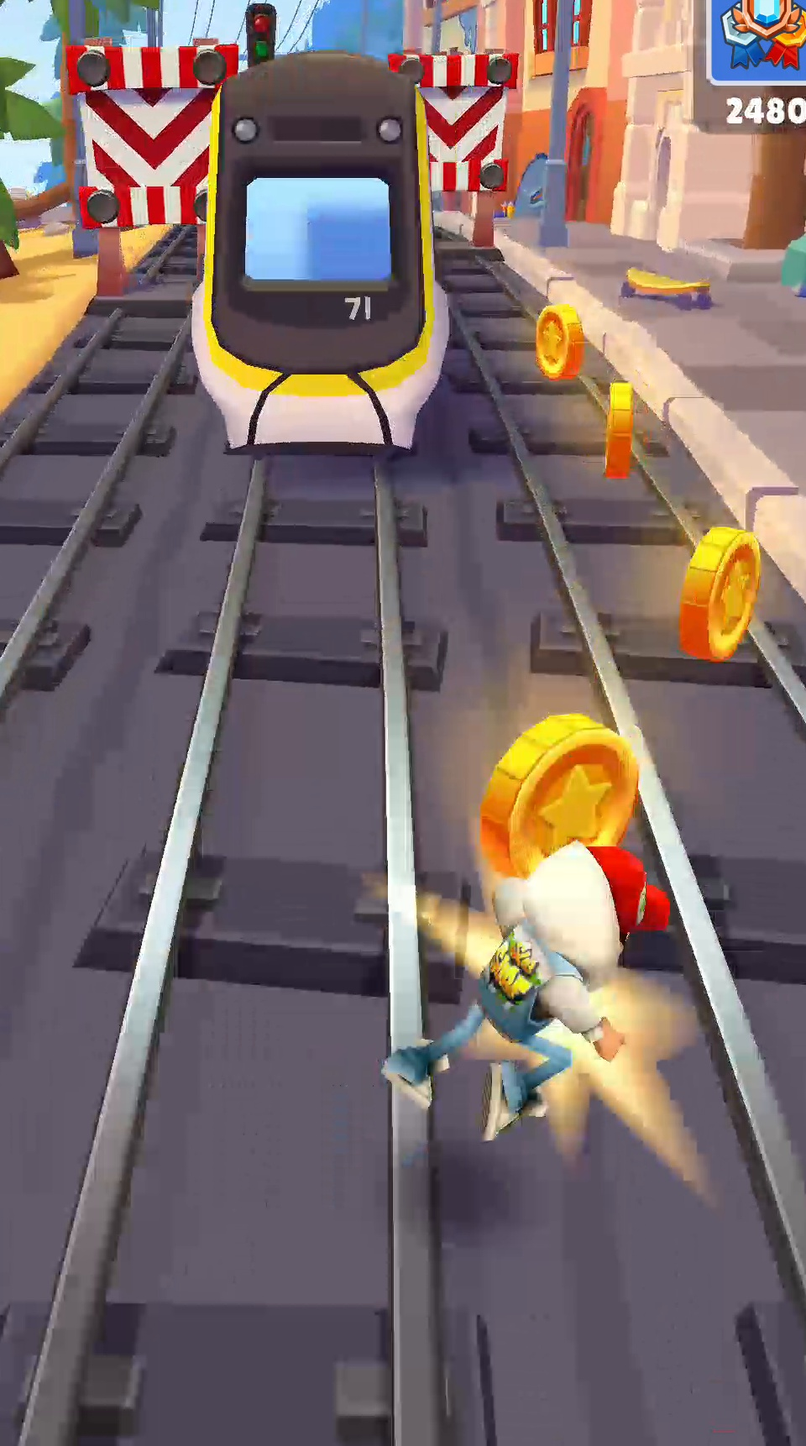jump-barrier: (66, 39, 238, 295), (388, 51, 518, 244)
train: (191, 51, 448, 449)
